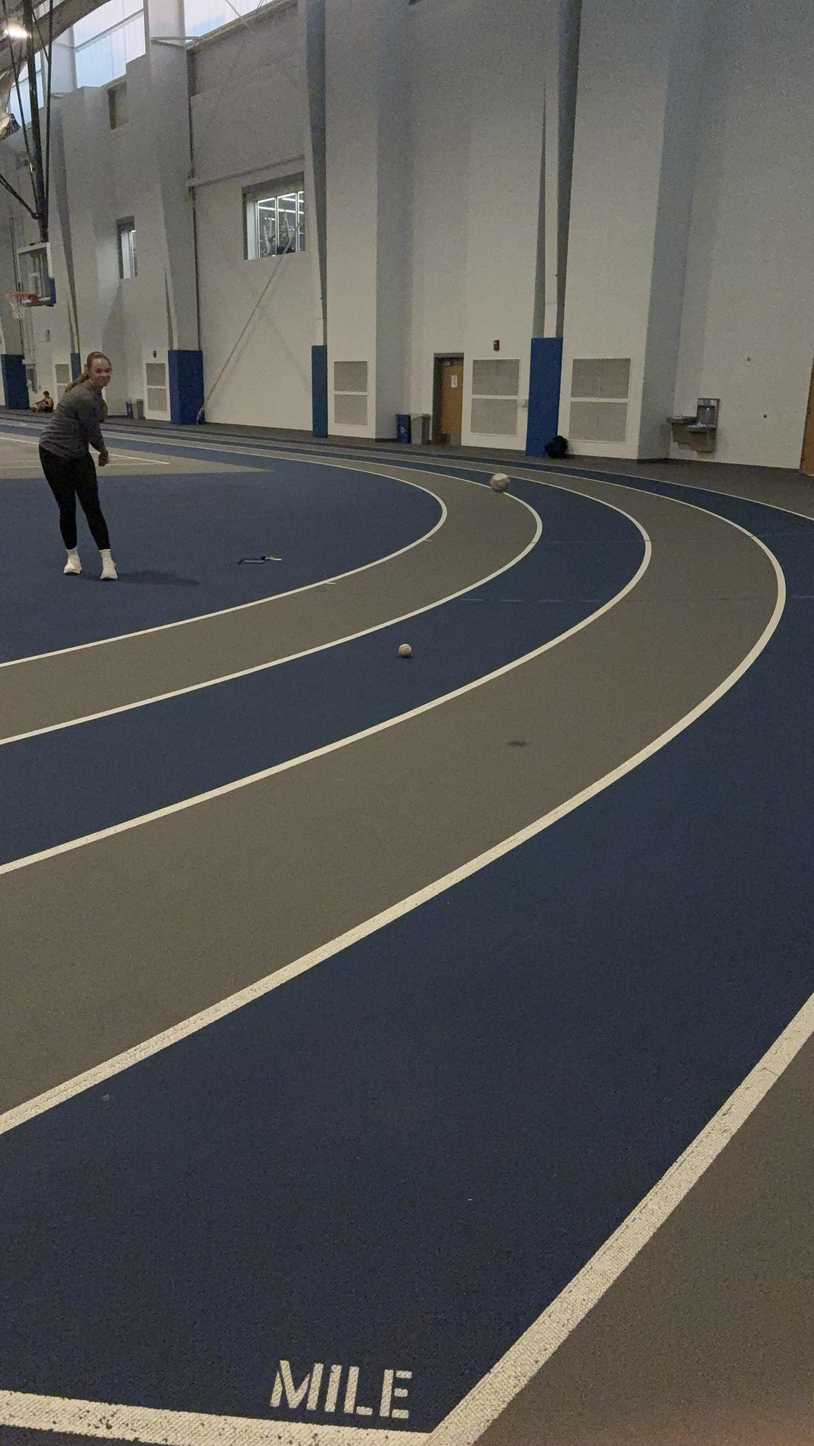Baseball: (393, 643, 415, 660), (490, 473, 509, 491)
